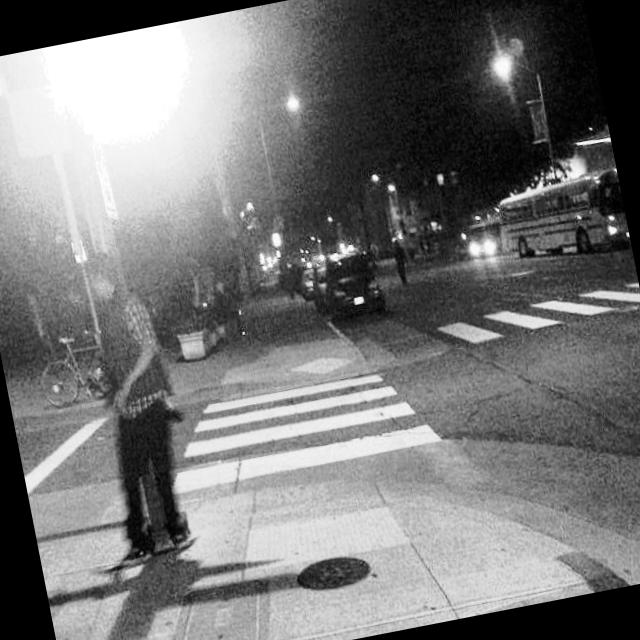Bicycle: (16, 324, 136, 426)
Person: (60, 238, 218, 596)
